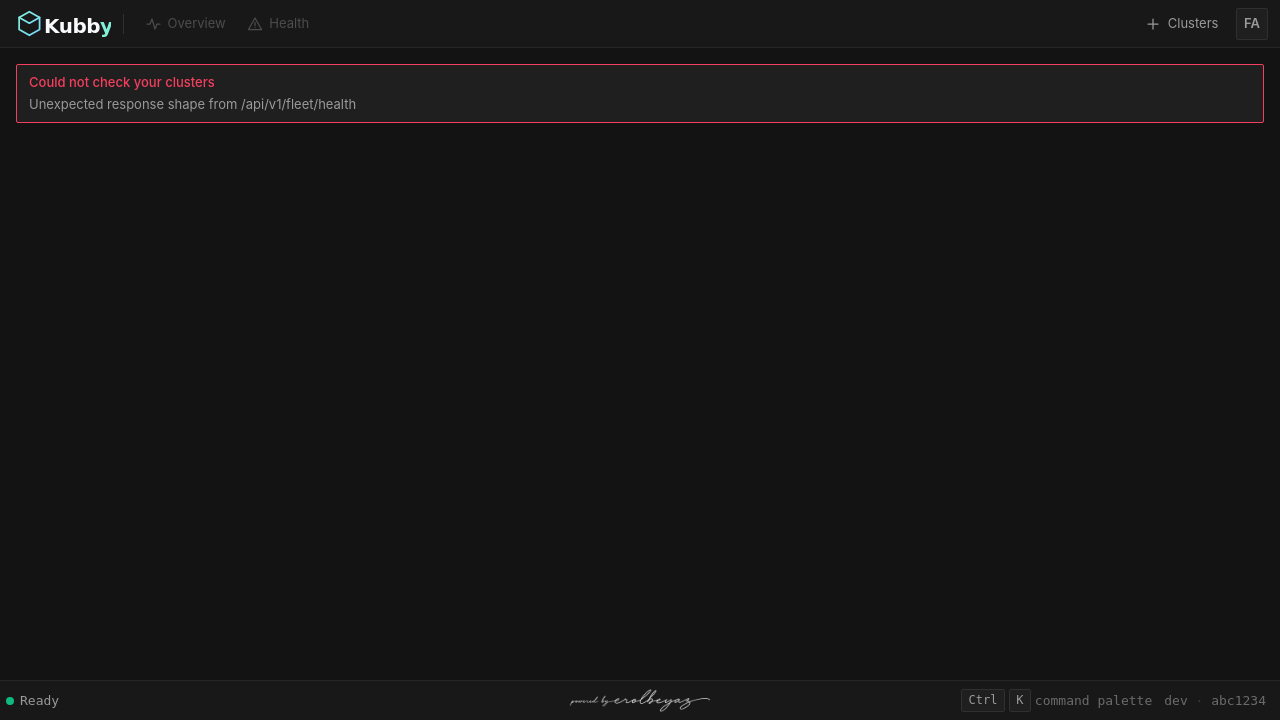
Shell › keeps the identity and its actions behind the account menu
Click the button with aria-label "account: first admin".
click(1252, 24)  # box [1236,8,1268,40]
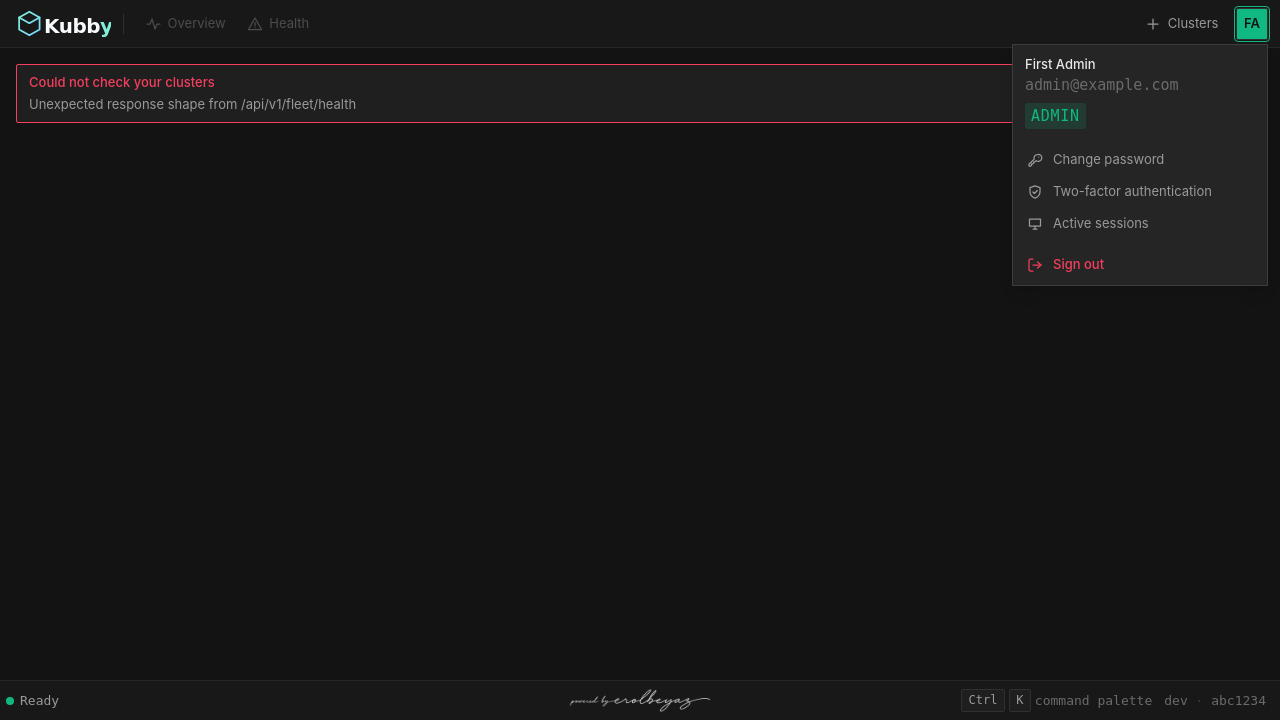
Check: the text "admin@example.com" is shown, box [1025,76,1178,94]
Check: the menu item "Sign out" is shown, box [1017,249,1263,281]
